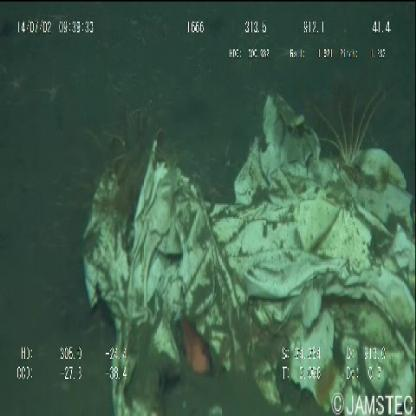Rác: (75, 83, 412, 416)
